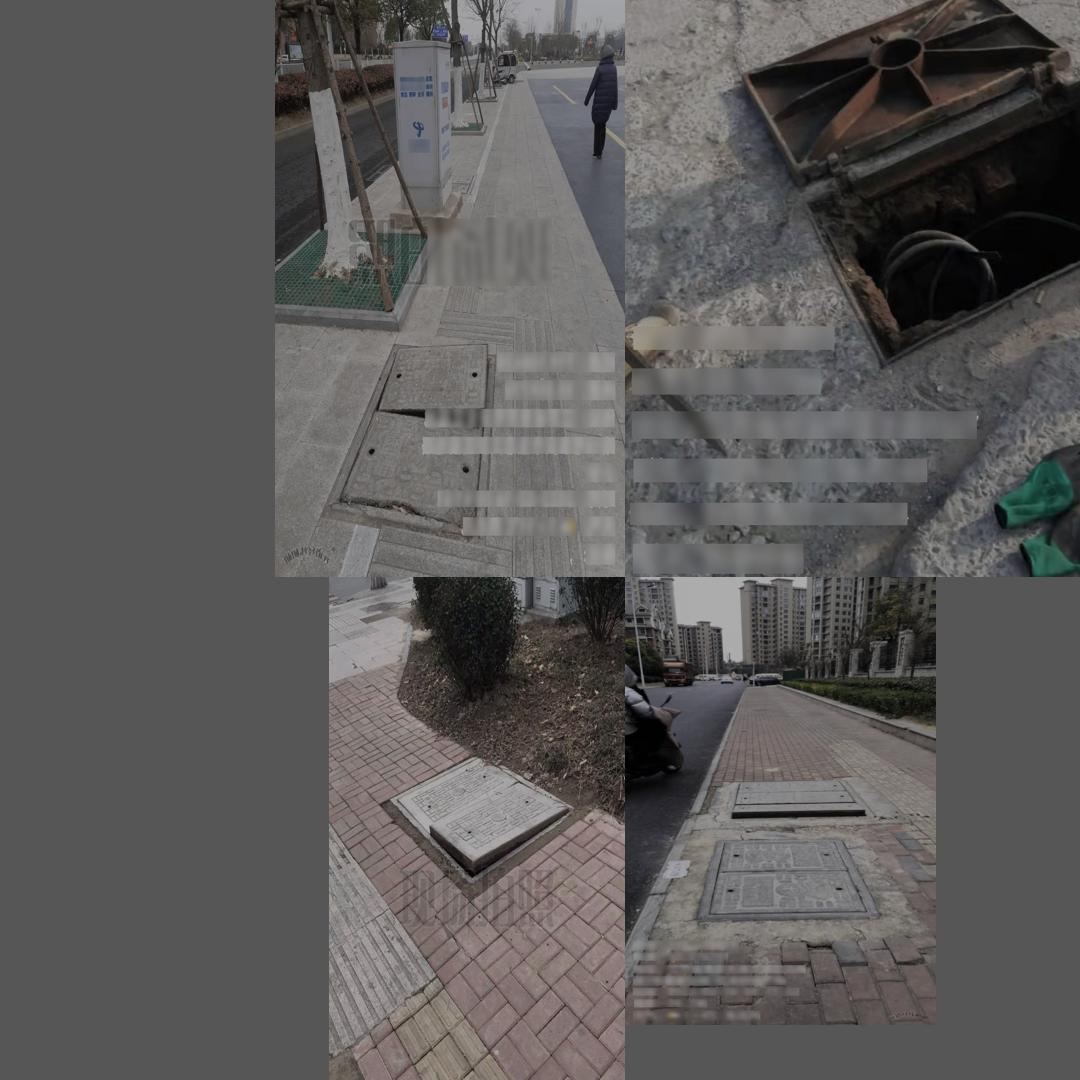good: (695, 839, 881, 922)
uncovered: (751, 0, 1080, 370), (319, 340, 499, 542), (390, 757, 574, 884), (725, 780, 877, 822)
